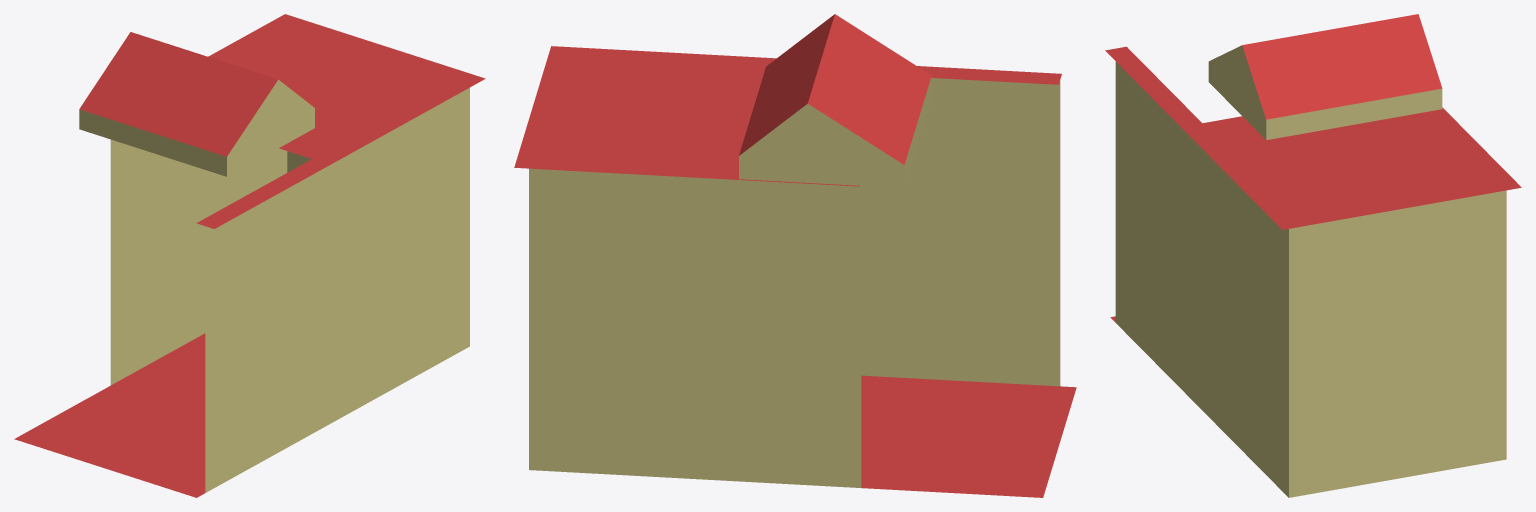
The picture shows the model from 3 angles, left to right: view 1: azimuth 30°, elevation 25°; view 2: azimuth 150°, elevation 25°; view 3: azimuth 270°, elevation 25°; orthographic projection. The views are drawn at different scales.
Size of the model in its own units: 11.34 by 8.86 by 8.09.
